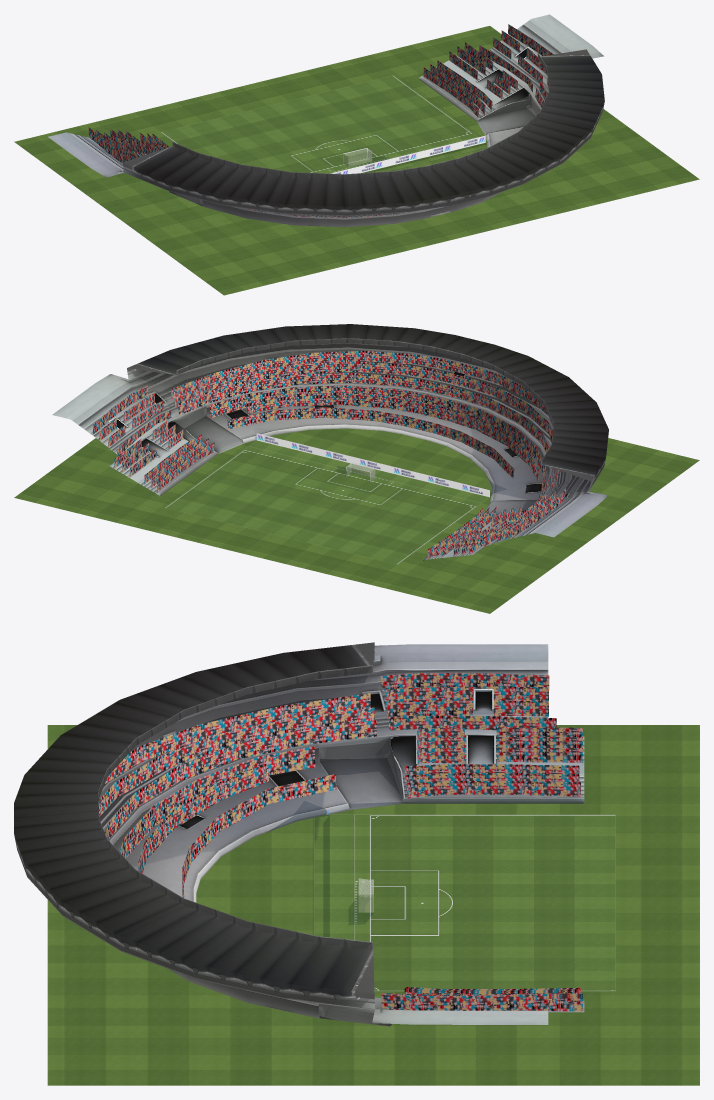
The model's file is stadium.gltf.
3 renders of one model, top to bottom at view 1: azimuth 30°, elevation 25°; view 2: azimuth 150°, elevation 25°; view 3: azimuth 270°, elevation 25°, orthographic. The views are drawn at different scales.
Visible parts, largest first — view 1: terrain, gradas, feeld, puclico, sponsor; view 2: gradas, terrain, puclico, feeld, sponsor; view 3: terrain, gradas, feeld, puclico.
Boxes of the visible parts, box(x1,y1,x2,y2) form: terrain: box(14, 26, 699, 295); gradas: box(48, 14, 604, 227); feeld: box(161, 75, 487, 173); puclico: box(88, 24, 553, 217); sponsor: box(330, 135, 485, 174); gradas: box(52, 324, 608, 560); terrain: box(14, 428, 699, 613); puclico: box(92, 351, 565, 558); feeld: box(165, 440, 491, 564); sponsor: box(256, 433, 489, 497); terrain: box(47, 725, 699, 1085); gradas: box(14, 642, 584, 1026); feeld: box(314, 814, 615, 991); puclico: box(98, 673, 583, 1011).
Bounding box in the file's own units: 154 × 20.01 × 118.
7 materials, 6 textured.
